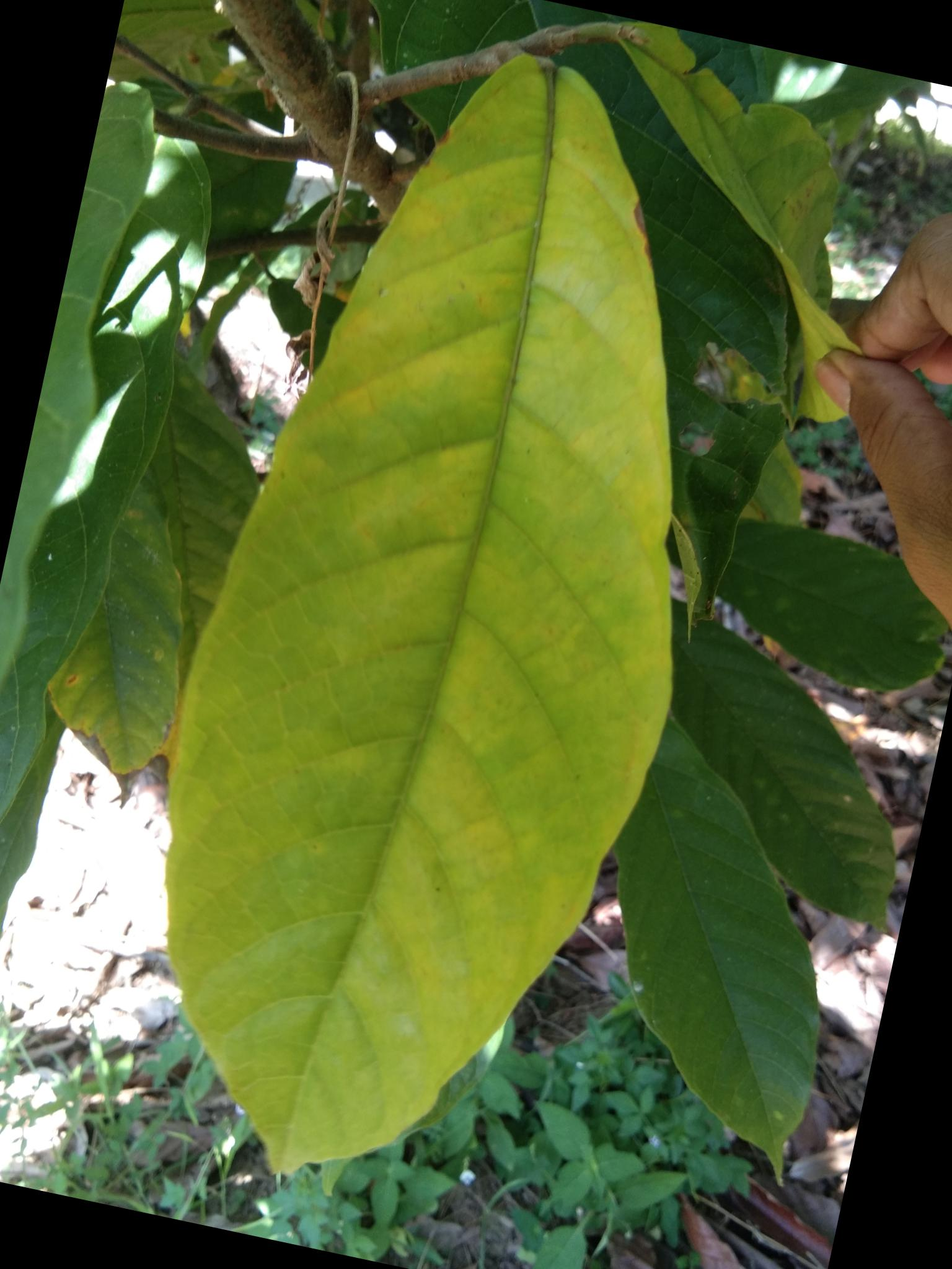Fosforo: (136, 34, 707, 1206)
